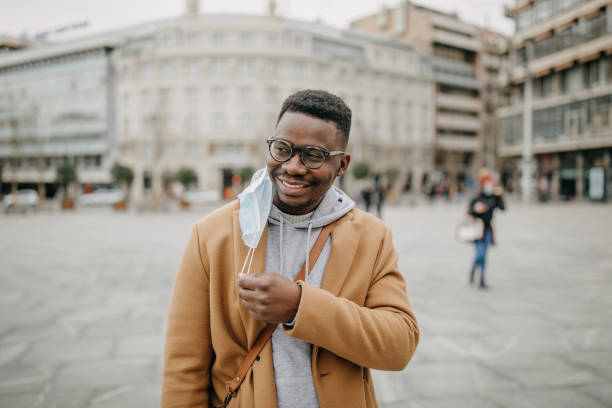without mask: (268, 97, 345, 220)
